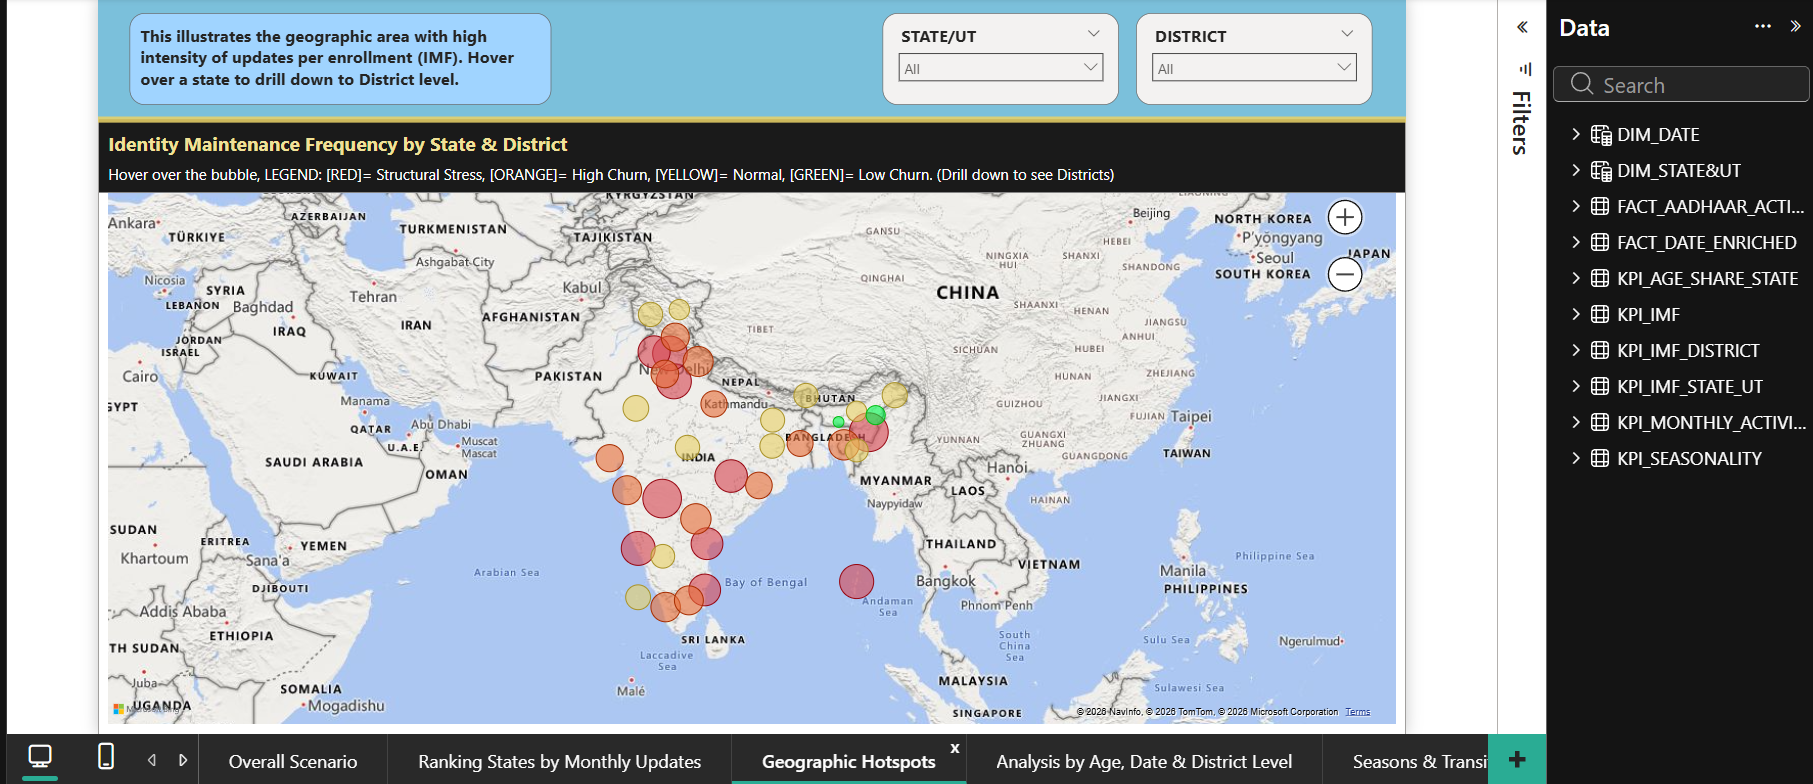

The page's visual inventory and layout, read from the dashboard file:
{"tool":"powerbi","page":{"name":"Geographic Hotspots","canvas":[1280,720],"ordinal":2},"visuals":[{"type":"map","title":"Identity Maintenance Frequency by State & District","fields":{"Size":["Sum(KPI_IMF_STATE.IMF_STATE)"],"Category":["DIM_STATE&UT.STATE/UT","KPI_IMF_DISTRICT.DISTRICT"]},"box":[0,76.2,1280,643.8],"z":0},{"type":"shape","box":[0,0,1280,118.6],"z":1000},{"type":"shape","box":[0,98.8,1280,41.2],"z":2000},{"type":"slicer","fields":{"Values":["DIM_STATE&UT.STATE/UT"]},"box":[767.1,14.3,231.4,90],"z":3000},{"type":"slicer","fields":{"Values":["KPI_IMF_DISTRICT.DISTRICT"]},"box":[1015.7,14.3,231.4,90],"z":4000},{"type":"textbox","box":[31.4,14.3,412.9,90],"z":5000}]}

Visuals, with their boxes on the page's 1280x720 design canvas (x1, y1, x2, y2). These are canvas units, not pixel positions in the 1813x784 screenshot, which may show the page scaled, cropped or inside an application window:
"Identity Maintenance Frequency by State & District" map: 0, 76, 1280, 720
shape: 0, 0, 1280, 119
shape: 0, 99, 1280, 140
slicer - DIM_STATE&UT.STATE/UT: 767, 14, 998, 104
slicer - KPI_IMF_DISTRICT.DISTRICT: 1016, 14, 1247, 104
textbox: 31, 14, 444, 104
